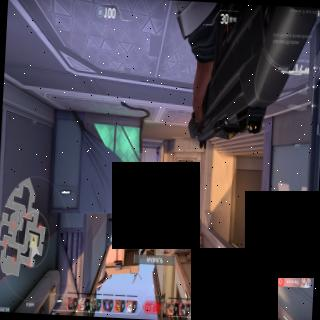ENEMY-BODY: (156, 144, 160, 164)
ENEMY-HEAD: (156, 160, 158, 162)
